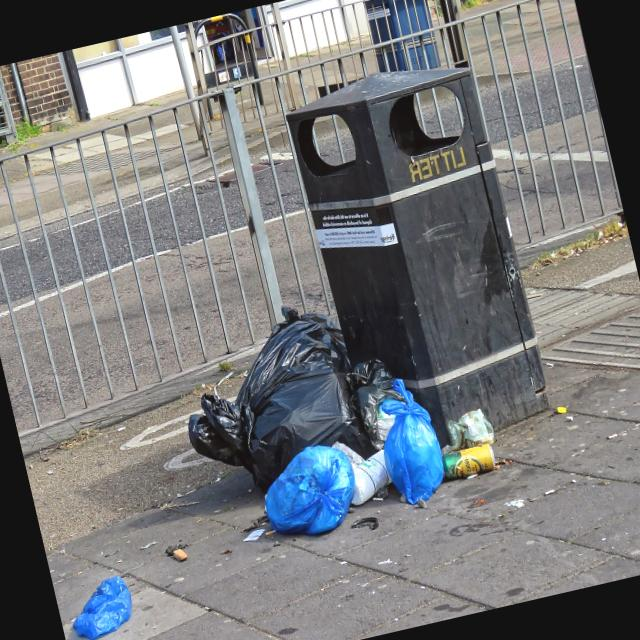garbage: (156, 263, 508, 582)
